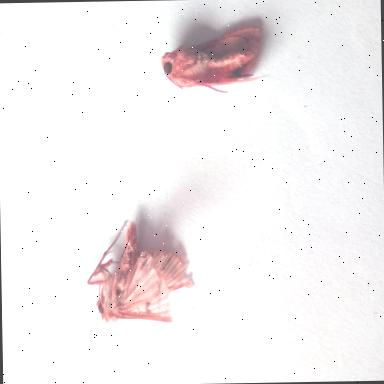abw: (79, 206, 191, 329), (147, 20, 272, 98)
